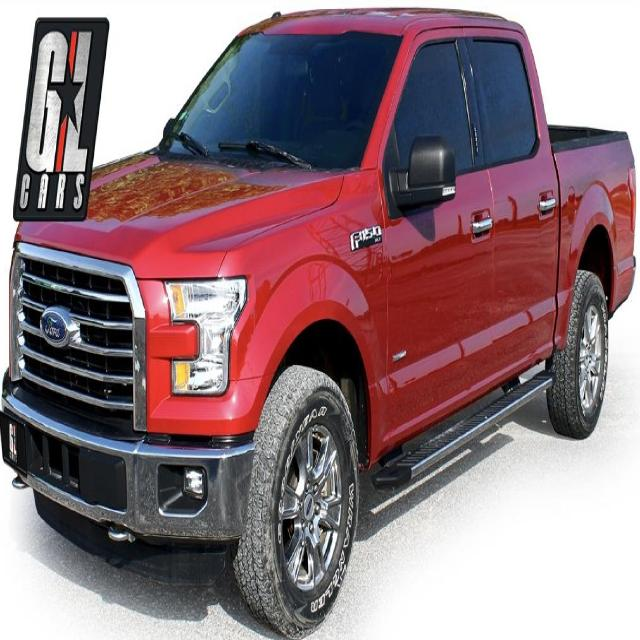CMT: (14, 14, 632, 557)
